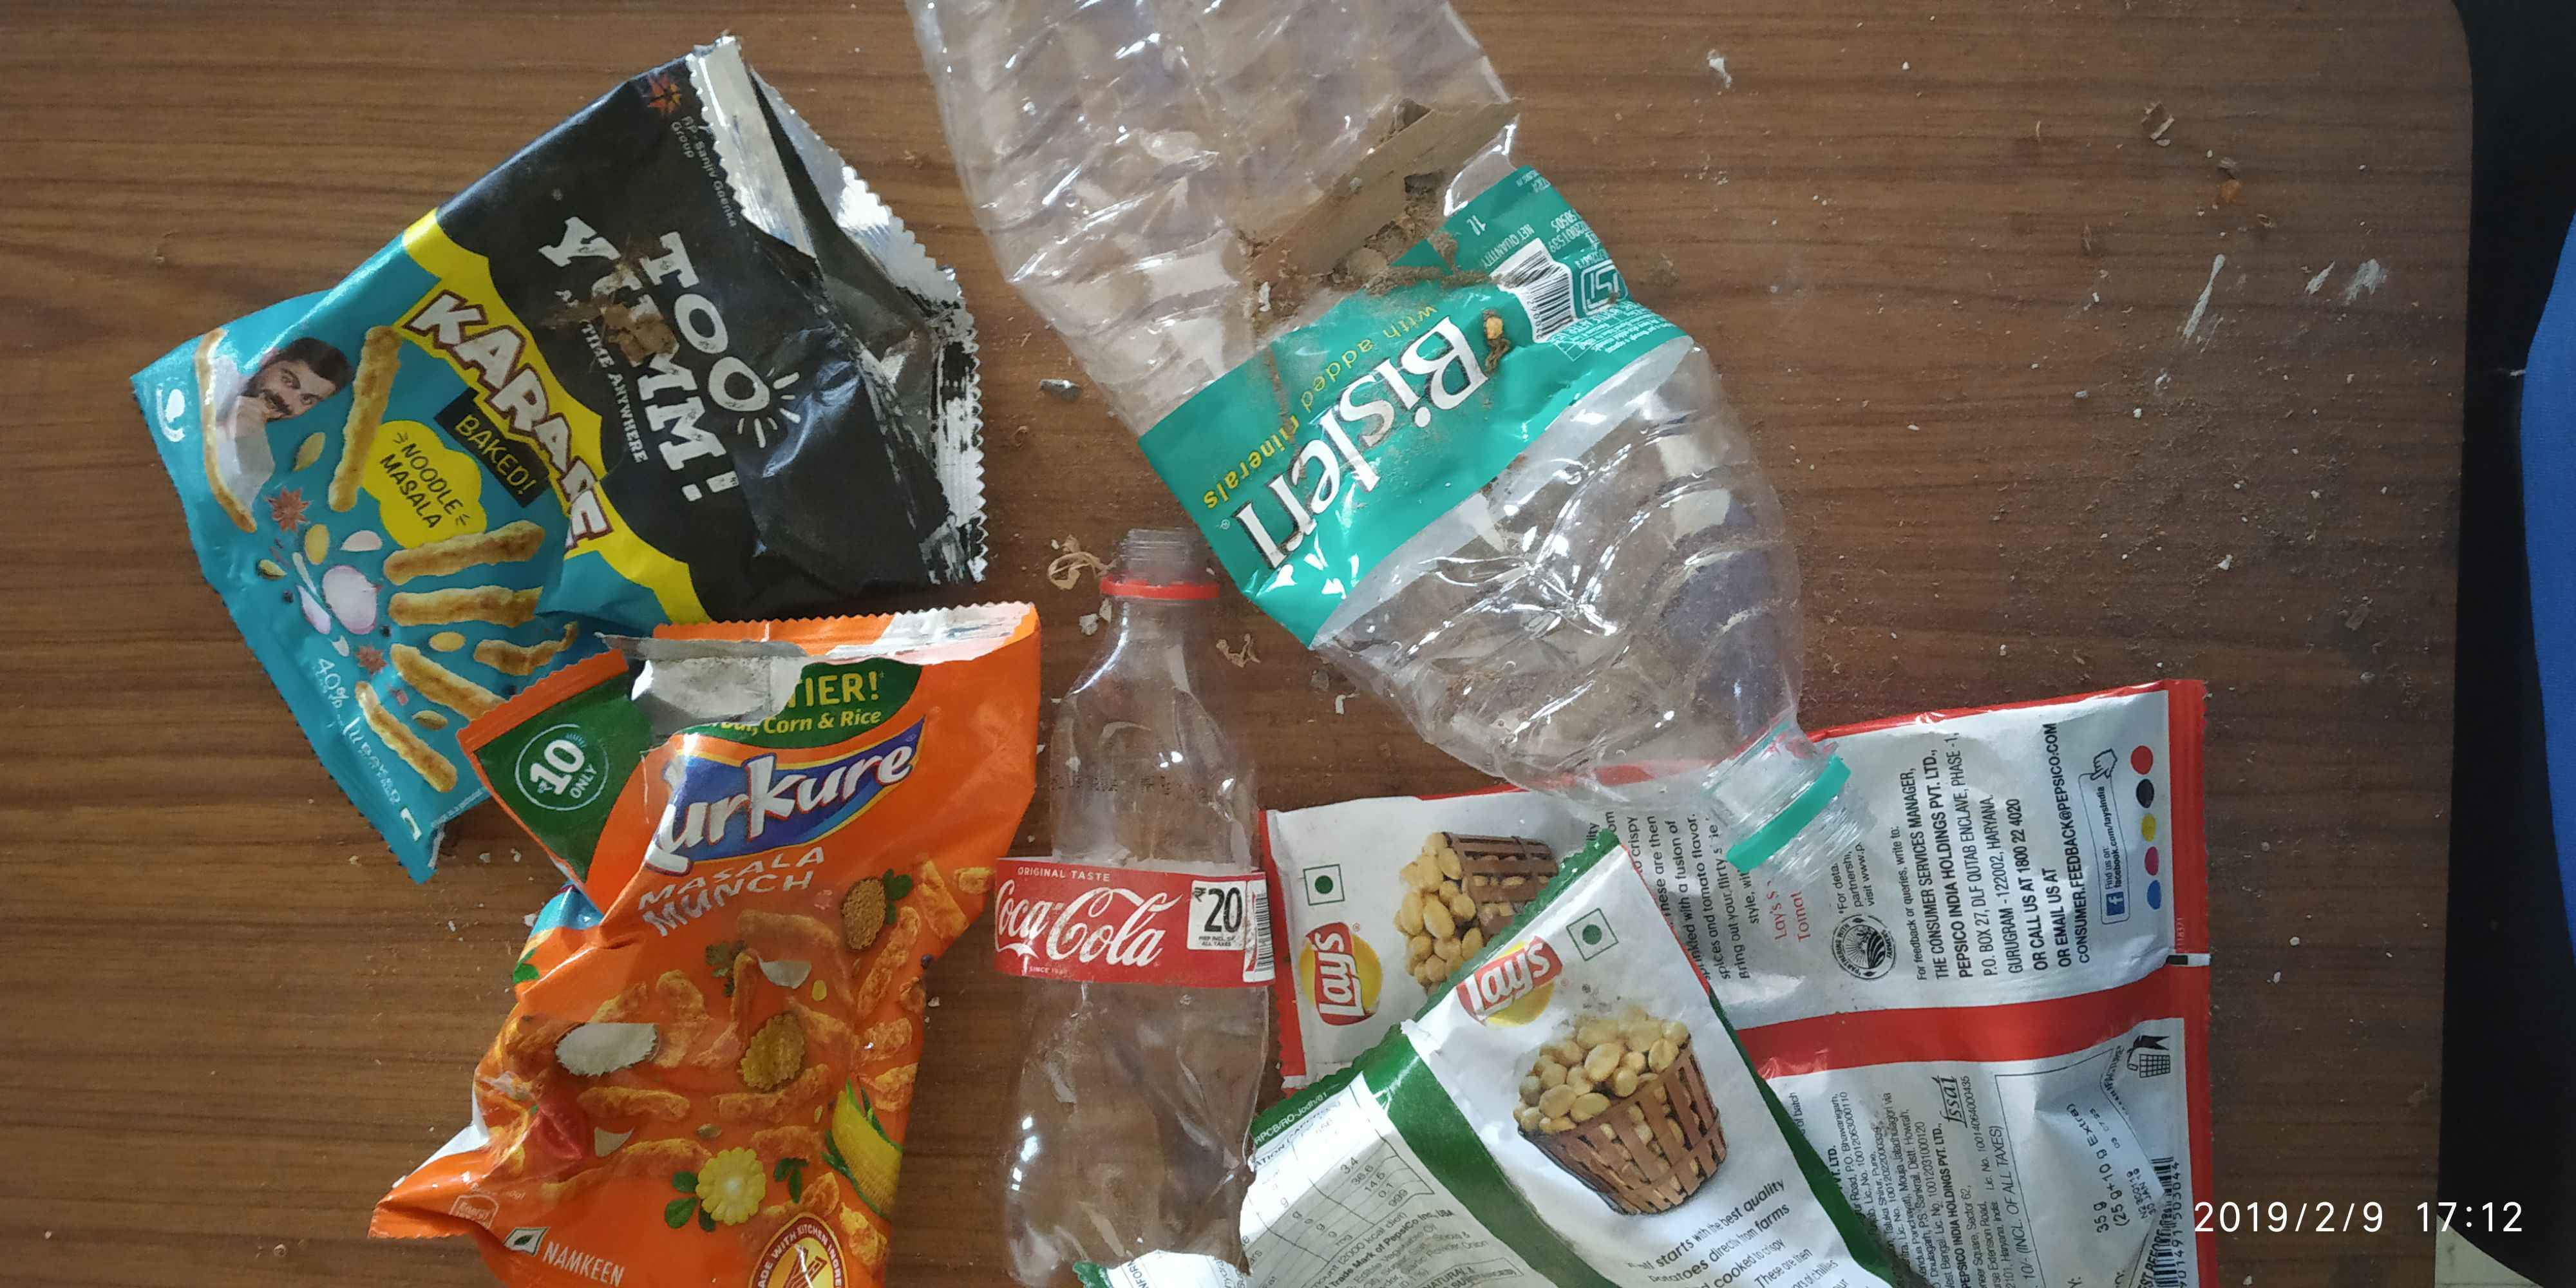Bisleri: (1244, 283, 1546, 593)
Coca-Cola: (969, 859, 1255, 987)
Lays: (1288, 889, 1410, 1046), (1457, 905, 1613, 1022)
kurkure: (603, 703, 940, 856)
tooyumm: (527, 179, 823, 508)
